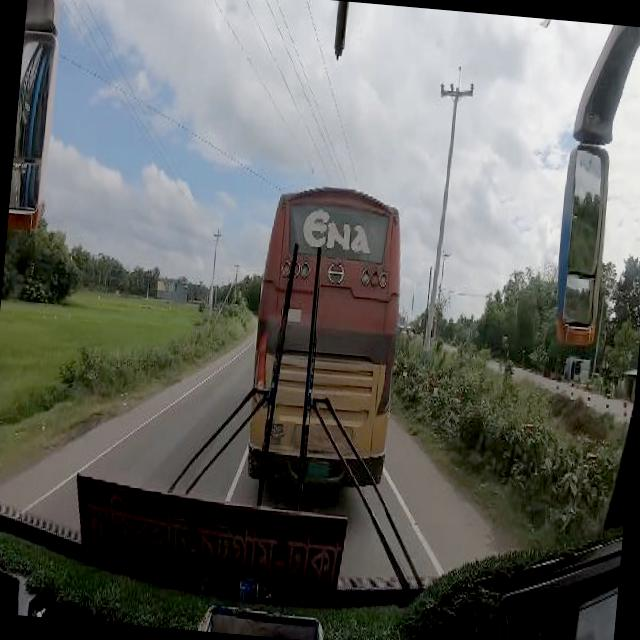bus: (242, 182, 408, 488)
